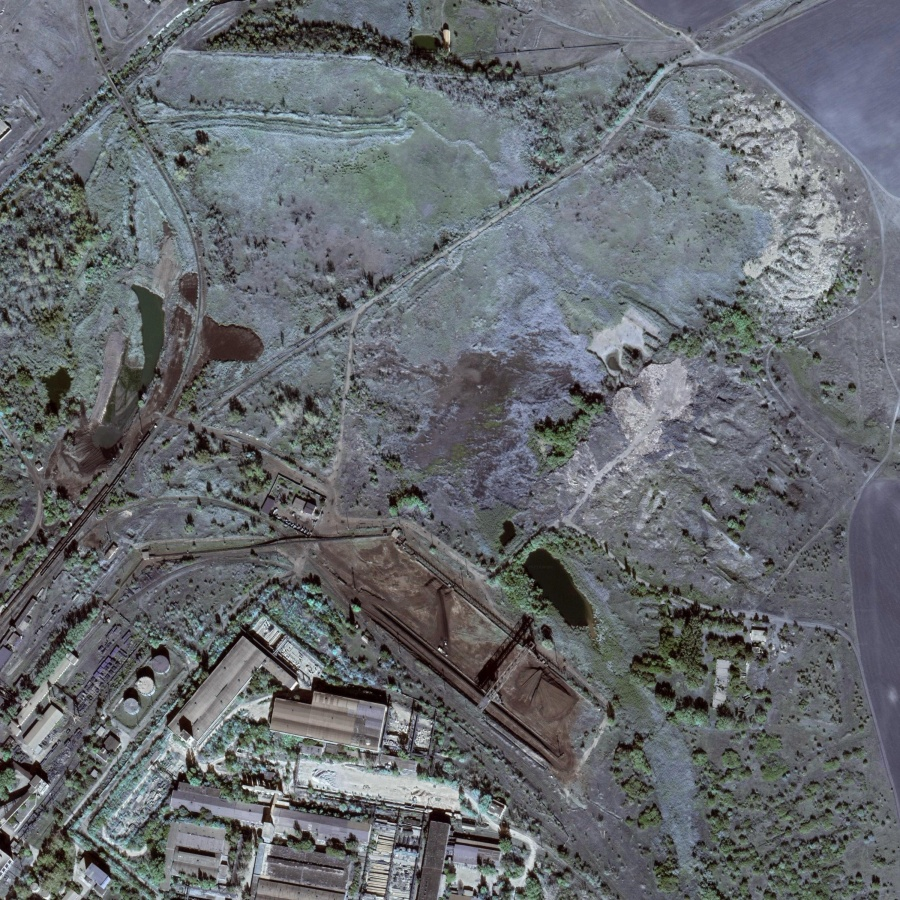PowerPlant: (294, 518, 584, 771)
